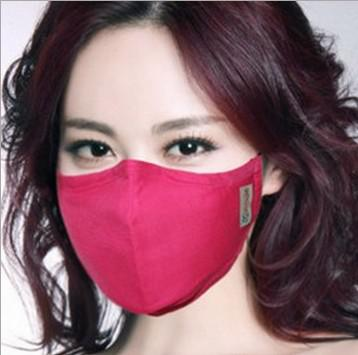OK: (56, 81, 257, 319)
